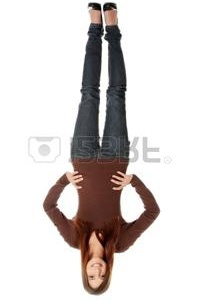arm: (118, 190, 161, 252), (42, 191, 80, 248)
chest: (79, 189, 117, 230)
face: (85, 258, 111, 293)
foot: (87, 1, 106, 27), (105, 2, 120, 26)
hand: (65, 171, 85, 190), (110, 171, 131, 189)
leg: (71, 25, 100, 161), (102, 25, 131, 159)
neck: (86, 230, 109, 259)
